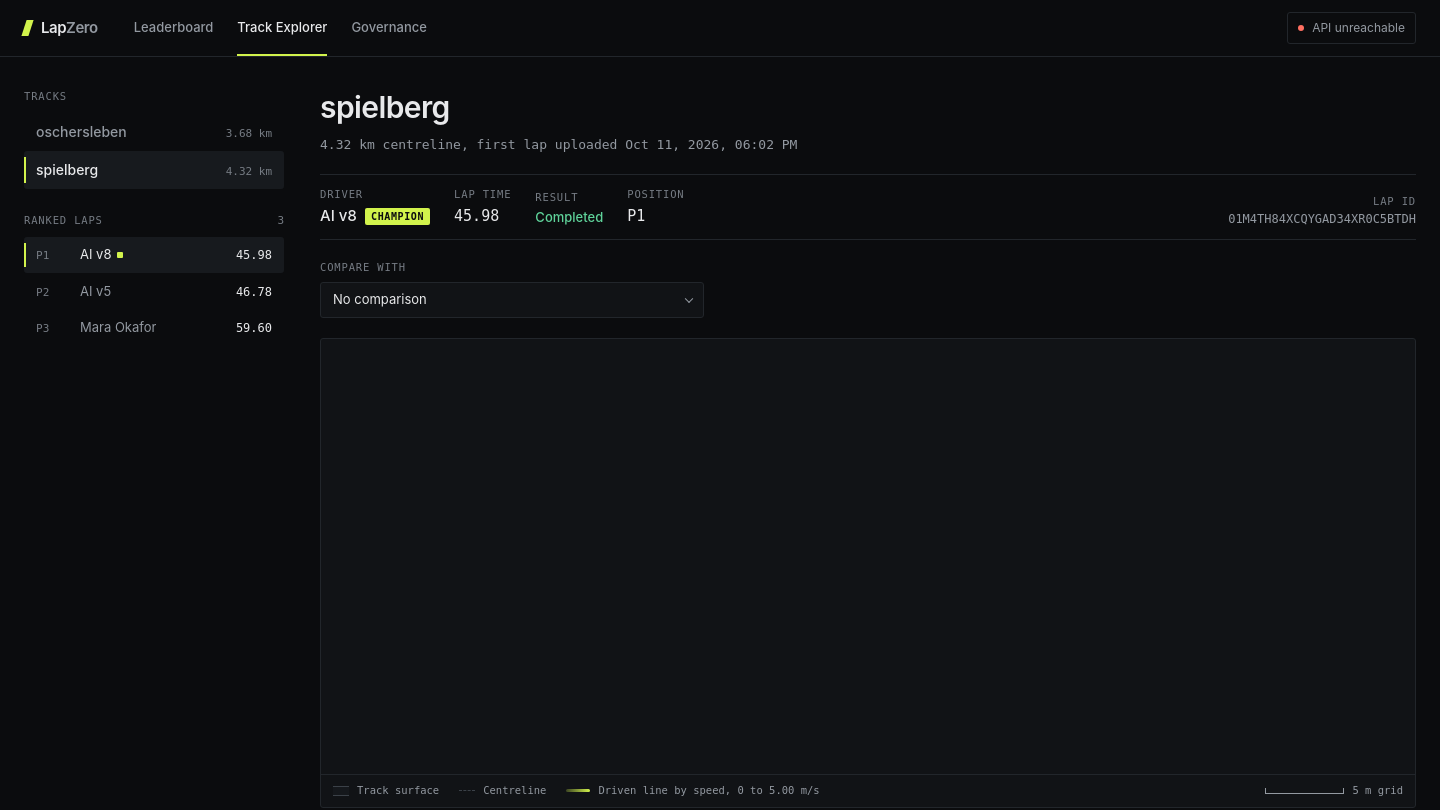
Test: Track Explorer › comparing two laps › races a second lap picked from the list and puts it in the URL
Select "P3 Mara Okafor, 59.60" in the dropdown labelled "Compare with" at (512,300), box [320, 282, 704, 318]
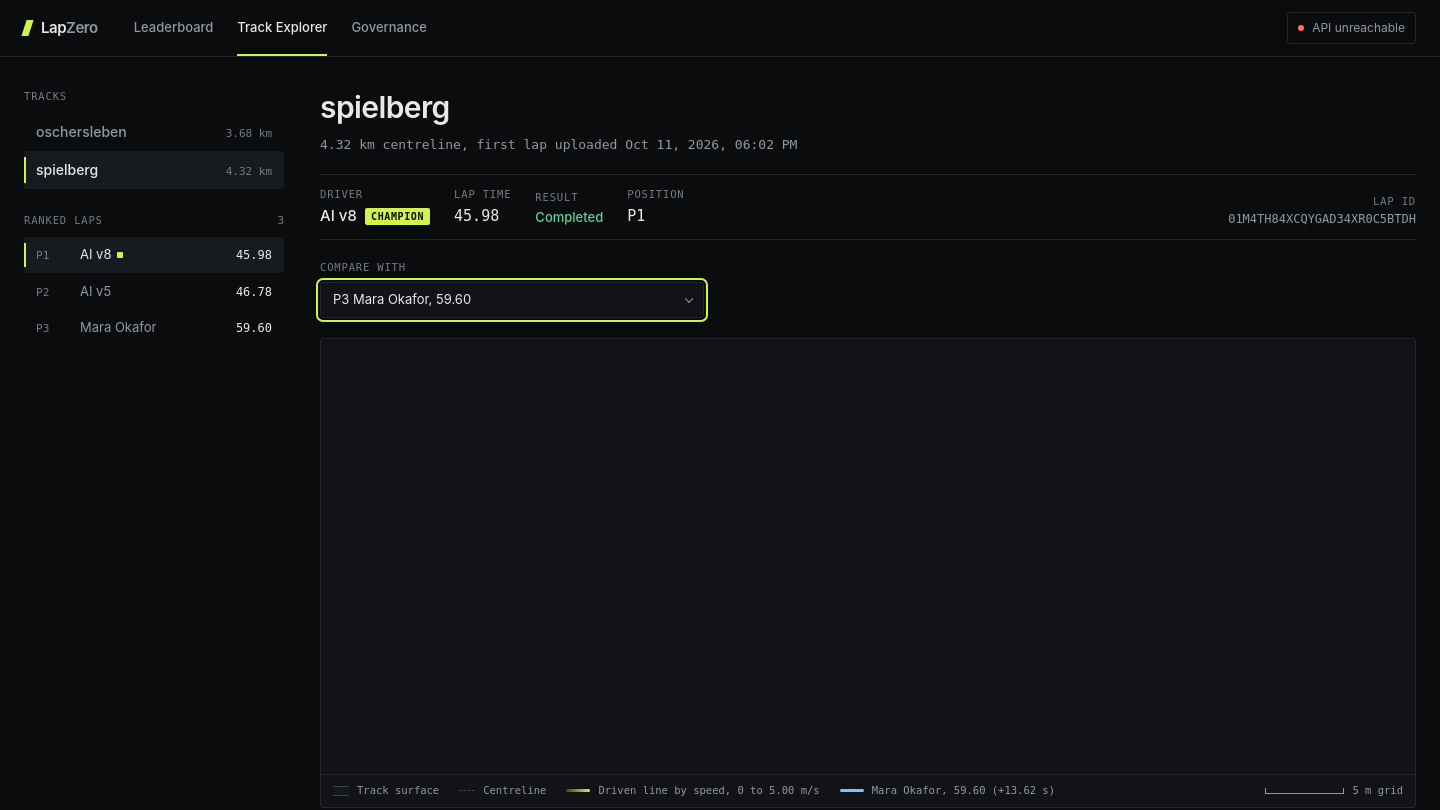
Check: the list item "Mara Okafor, 59.60 (+13.62 s)" is shown, box [840, 783, 1055, 799]
